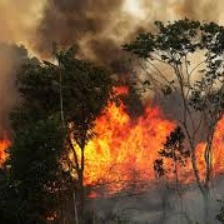incendio: (48, 81, 221, 192), (1, 129, 21, 163)
